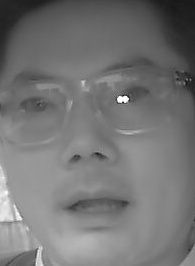glass: (93, 69, 174, 134), (1, 84, 71, 145)
mouth: (62, 184, 140, 235)
